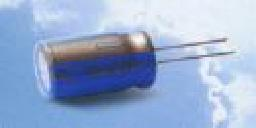Electrolytic-capacitor: (31, 31, 242, 103)
